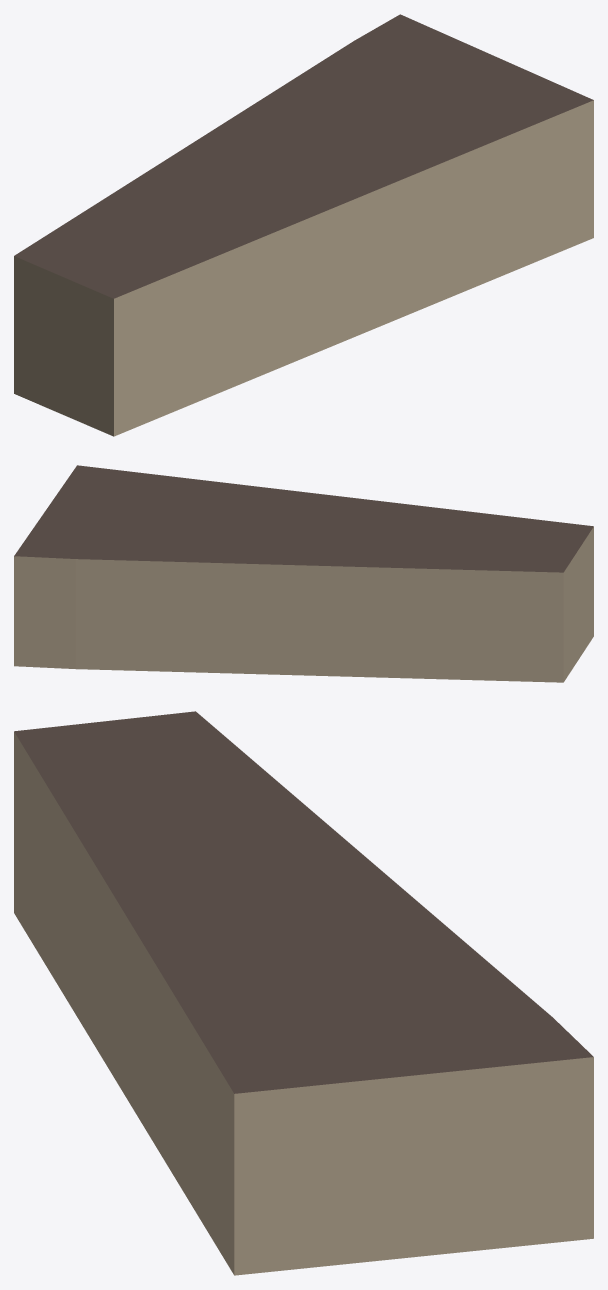
3 renders of one model, top to bottom at view 1: azimuth 30°, elevation 25°; view 2: azimuth 150°, elevation 25°; view 3: azimuth 270°, elevation 25°, orthographic. The views are drawn at different scales.
Parts seen in each view (by area): view 1: HP-w757497651; view 2: HP-w757497651; view 3: HP-w757497651.
Part boxes in pixels (x1,y1,x2,y2): HP-w757497651: (14,14,593,436); HP-w757497651: (14,465,593,682); HP-w757497651: (14,711,593,1275).
Bounding box in the file's own units: 40.63 × 9 × 26.03.
